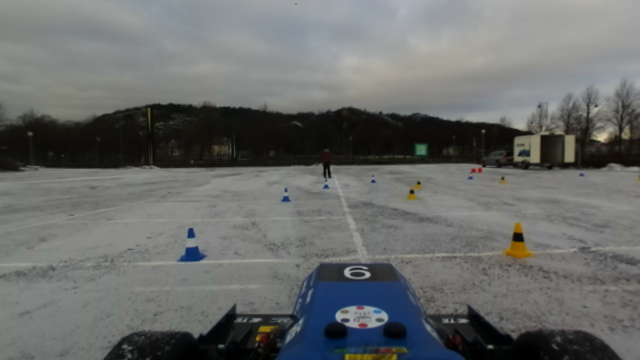blue: (177, 224, 209, 264)
yellow: (501, 221, 534, 261)
